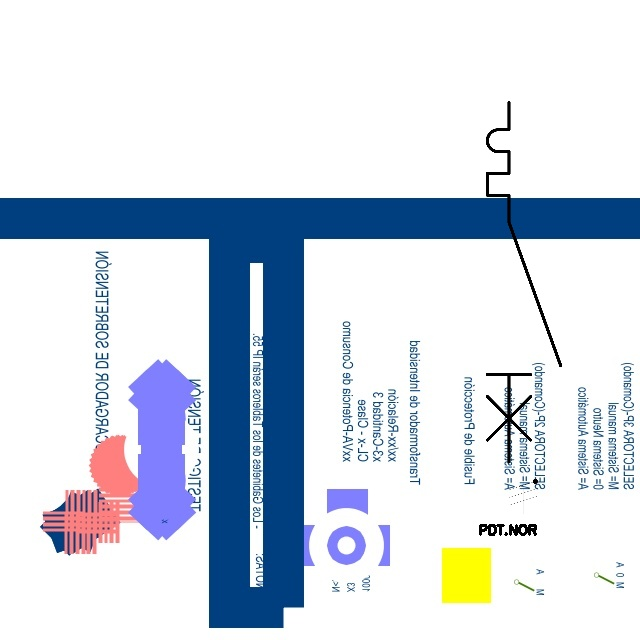interruptor_termomagnetico: (478, 93, 570, 471)
